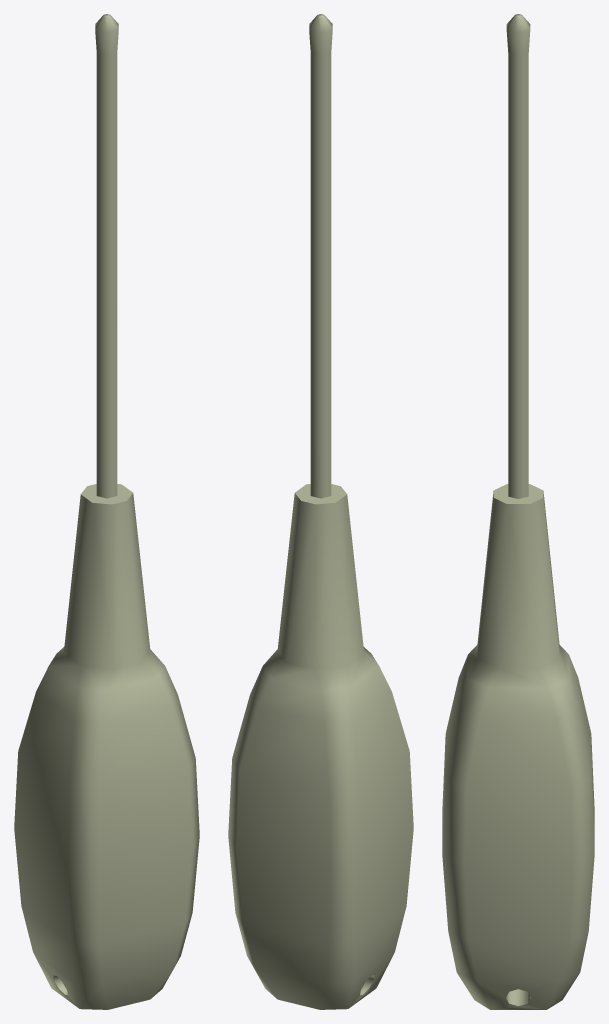
File: SM_ScrewDriver_01d.FBX
3 renders of one model, left to right at view 1: azimuth 30°, elevation 25°; view 2: azimuth 150°, elevation 25°; view 3: azimuth 270°, elevation 25°, orthographic.
Visible parts, largest first — view 1: SM_ScrewDriver_01d_LOD0; view 2: SM_ScrewDriver_01d_LOD0; view 3: SM_ScrewDriver_01d_LOD0.
Part boxes in pixels (bbox=[...]): SM_ScrewDriver_01d_LOD0: bbox=[14, 14, 199, 1009]; SM_ScrewDriver_01d_LOD0: bbox=[228, 14, 413, 1009]; SM_ScrewDriver_01d_LOD0: bbox=[442, 14, 594, 1009].
Size of what is drawn, in the model's own units: 2.57 by 18.31 by 2.57.
